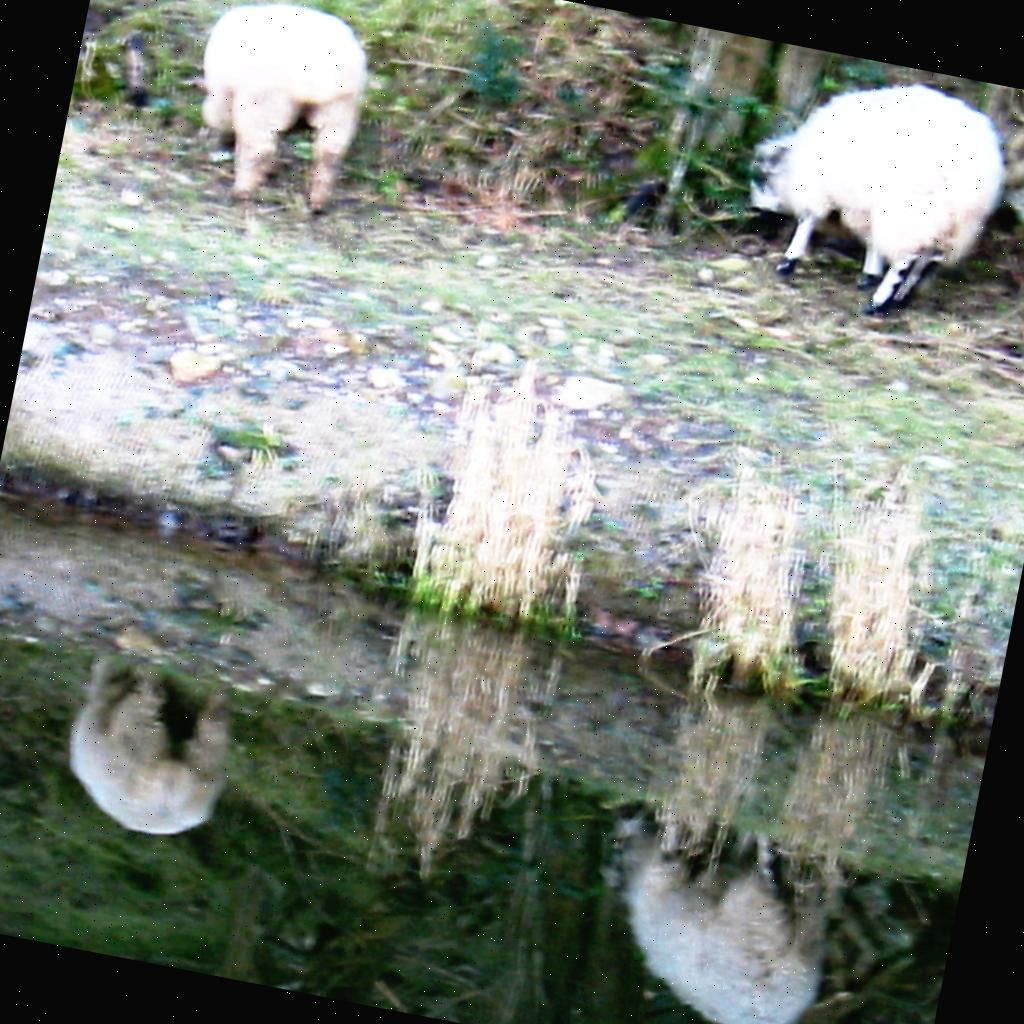Sheep: (730, 52, 1016, 328), (180, 0, 381, 218)
